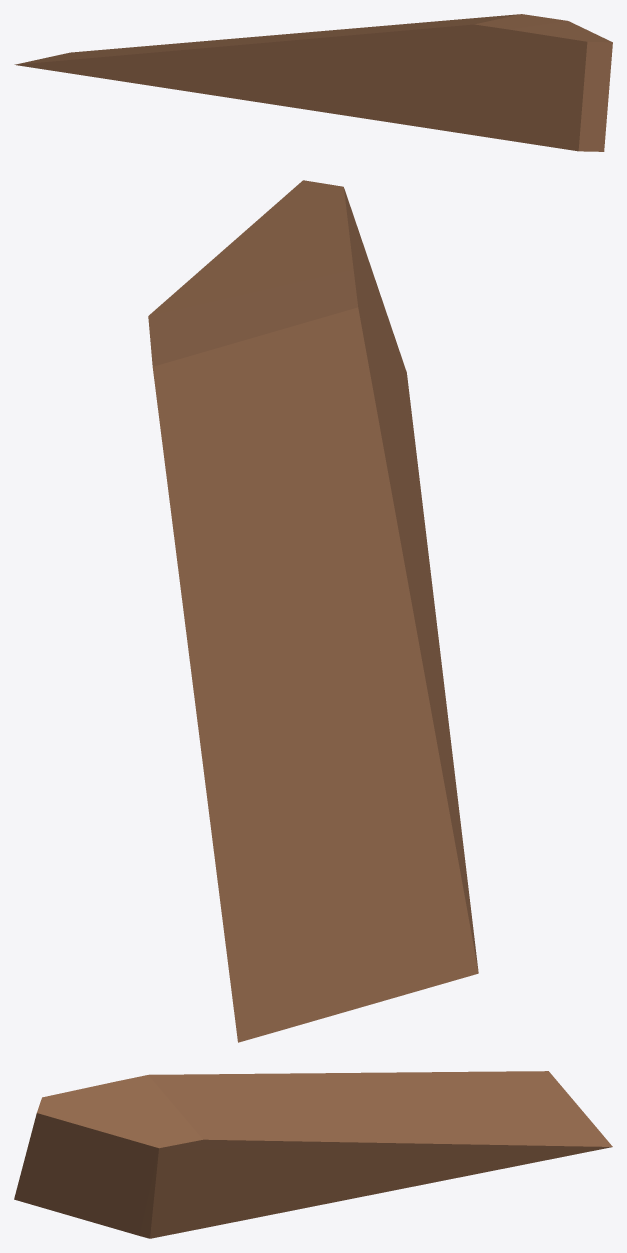
The model's file is WoodCellCube_003_cell_039.fbx.
3 views of the same model, one above another, from view 1: azimuth 30°, elevation 25°; view 2: azimuth 150°, elevation 25°; view 3: azimuth 270°, elevation 25° (orthographic). The views are drawn at different scales.
Parts seen in each view (by area): view 1: WoodCellCube_003_cell_039; view 2: WoodCellCube_003_cell_039; view 3: WoodCellCube_003_cell_039.
Boxes of the visible parts, box(x1,y1,x2,y2) form: WoodCellCube_003_cell_039: box(14, 14, 612, 151); WoodCellCube_003_cell_039: box(148, 180, 478, 1042); WoodCellCube_003_cell_039: box(14, 1071, 612, 1238).
Size of the model in its own units: 1.02 by 0.3061 by 0.708.
Materials: 1 (1 with a texture image).
